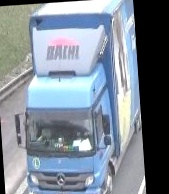truck: (8, 0, 147, 194)
